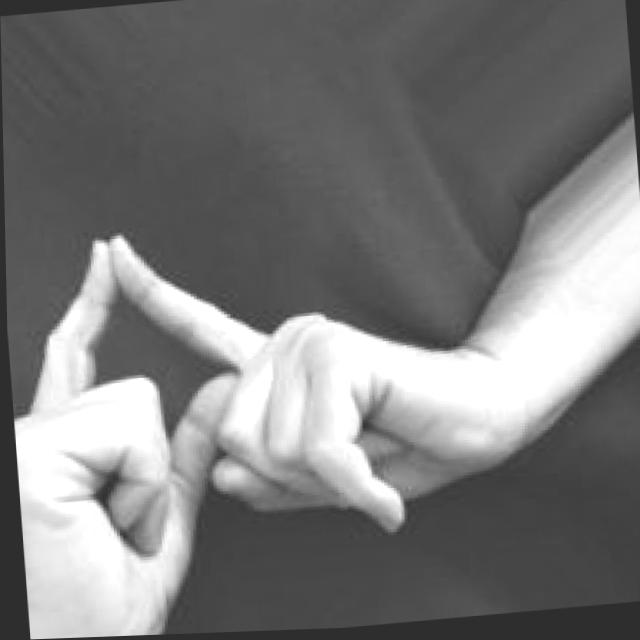D: (5, 204, 459, 640)
